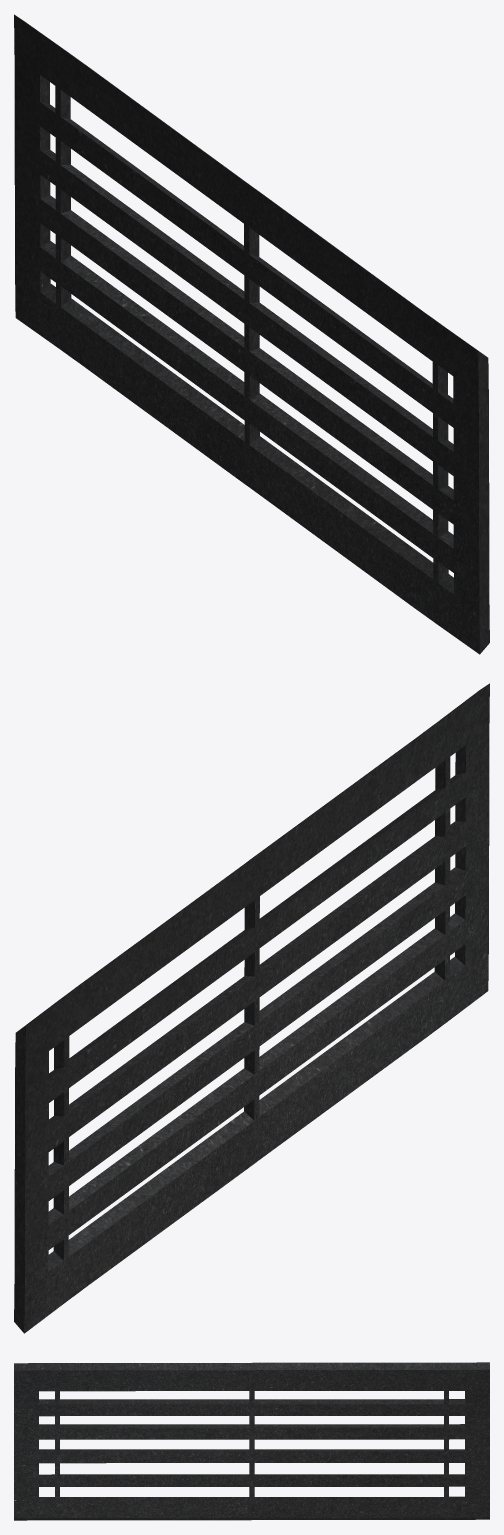
Rendered from AC_vent.fbx.
The picture shows the model from 3 angles, top to bottom: view 1: azimuth 30°, elevation 25°; view 2: azimuth 150°, elevation 25°; view 3: azimuth 270°, elevation 25°; orthographic projection. The views are drawn at different scales.
Parts seen in each view (by area): view 1: Cube; view 2: Cube; view 3: Cube.
Part boxes in pixels (left/top/right/bottom): Cube: left=14, top=14, right=489, bottom=654; Cube: left=14, top=683, right=489, bottom=1333; Cube: left=14, top=1362, right=489, bottom=1520.
Bounding box in the file's own units: 8.24 × 160 × 439.
1 material, 1 textured.
